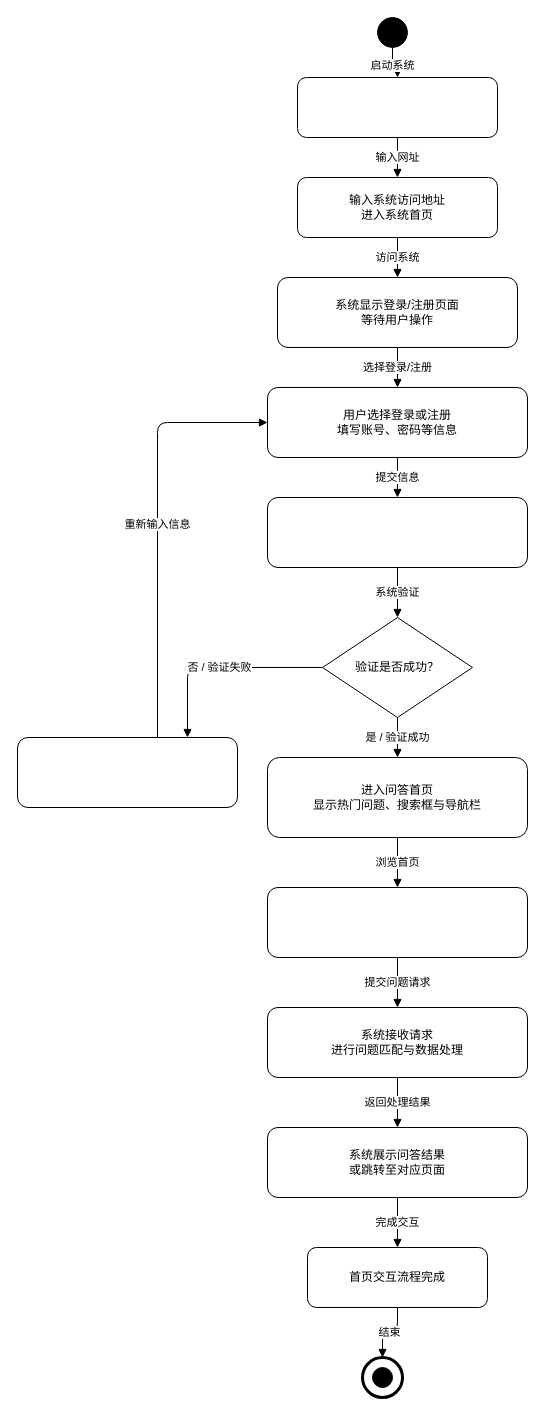
Image size: 545x1416. Some labels were removed from this diagram. The shapes that lost their labels are listed below. From the top down, each one's centre as x and y in pixels, then its label:
At [397,107]: "用户打开浏览器 准备访问系统".
At [397,532]: "系统接收用户输入信息 进行账号与数据校验".
At [127,772]: "系统提示错误信息 要求重新输入".
At [397,922]: "用户输入问题关键词 或点击问题分类导航".
